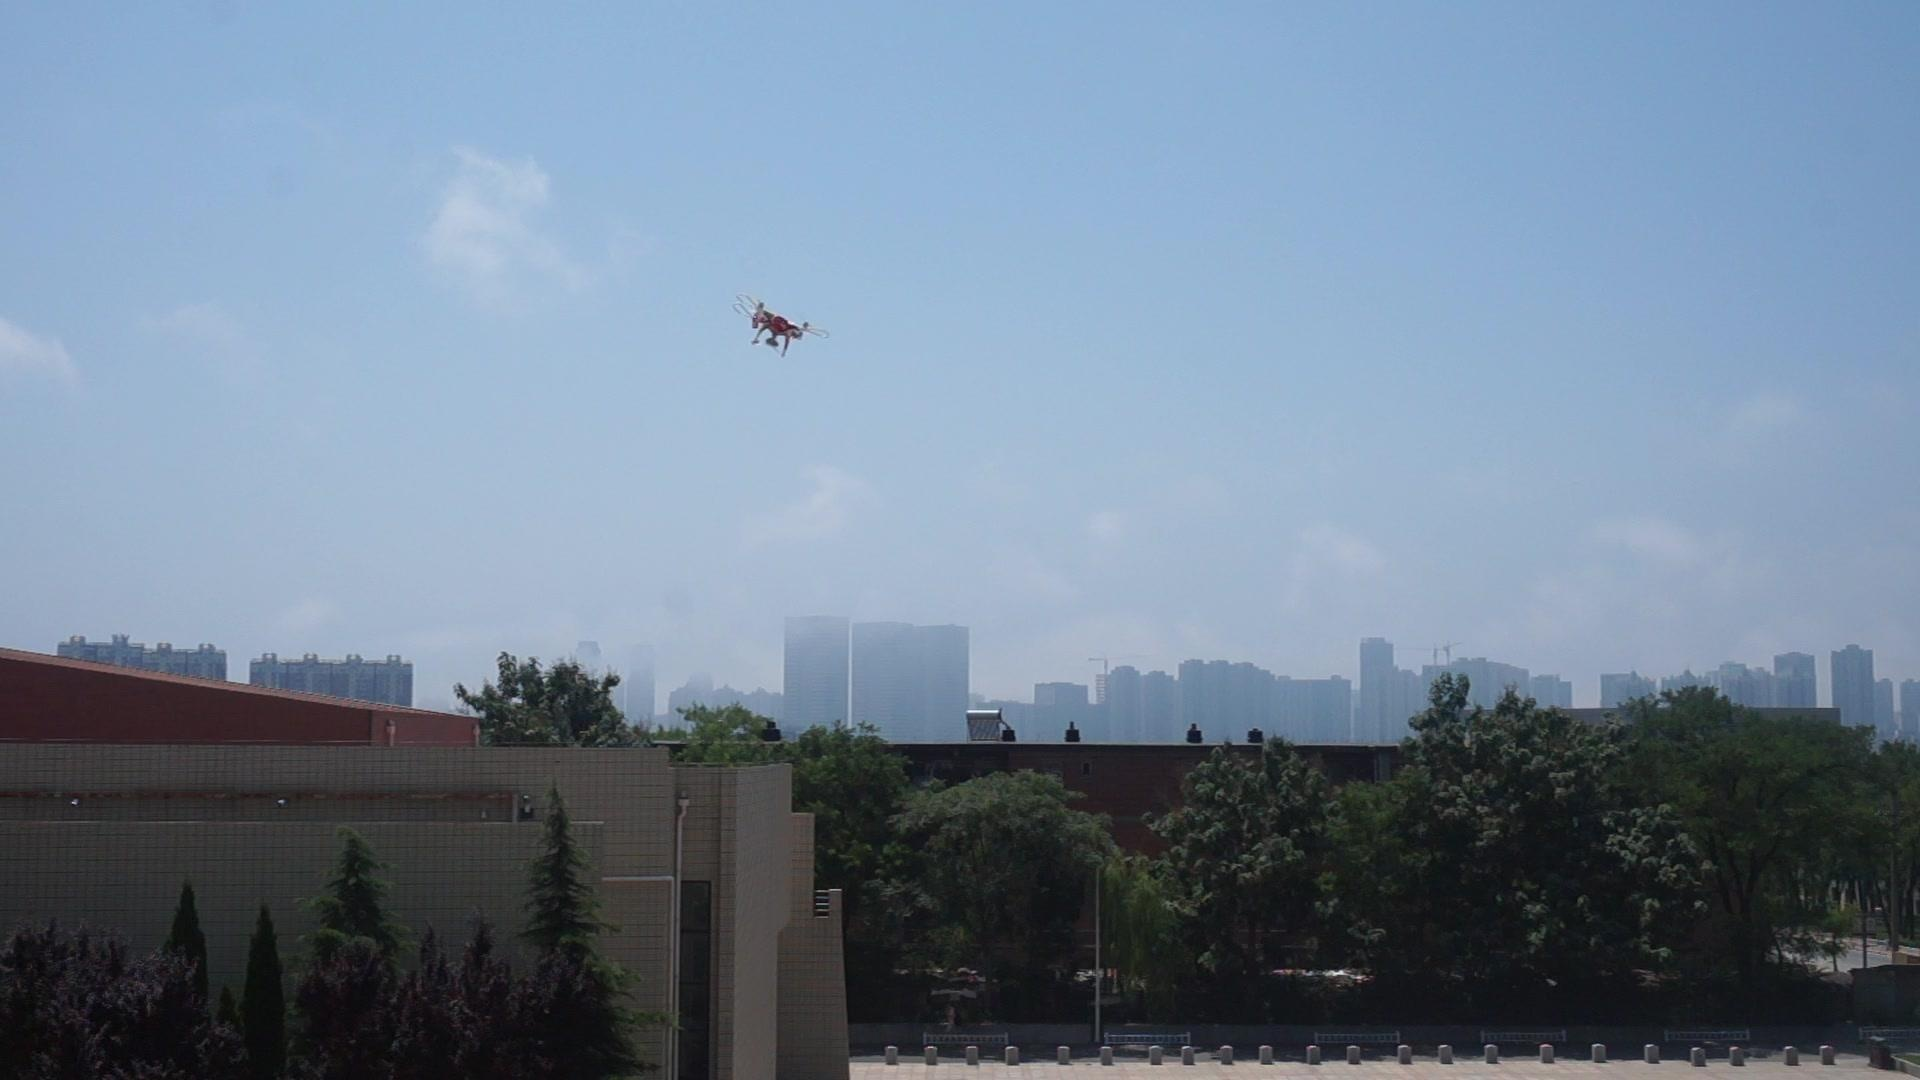UAV: (732, 293, 829, 359)
